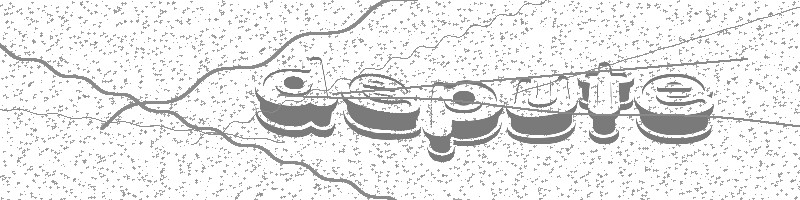d: (252, 53, 341, 142)
e: (339, 68, 424, 140), (635, 70, 715, 144)
p: (425, 80, 502, 165)
t: (577, 62, 635, 145)
u: (504, 76, 580, 145)
